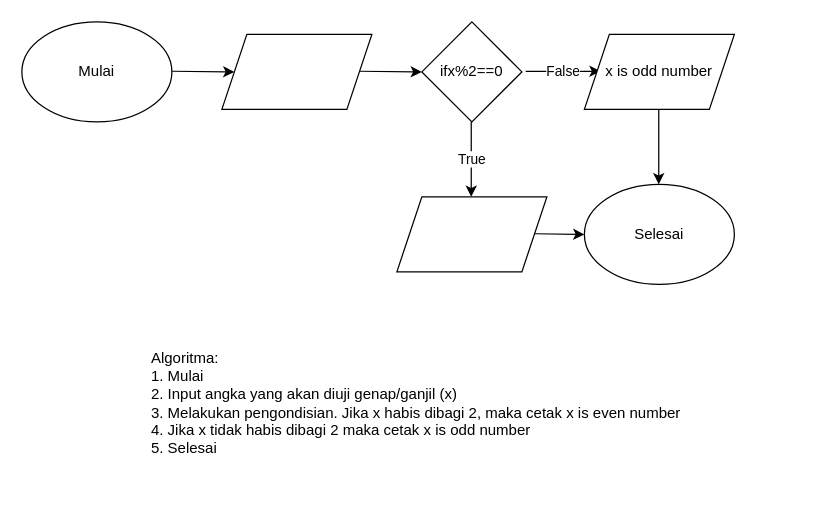
Image size: 831x519. Some labels were removed from this diagram. The shapes that lost their labels are listed below. From the top down, each one's centre as x and y in pixels, then its label:
At point (296, 71): "Input angka(x)".
At point (471, 234): "x is even number".
